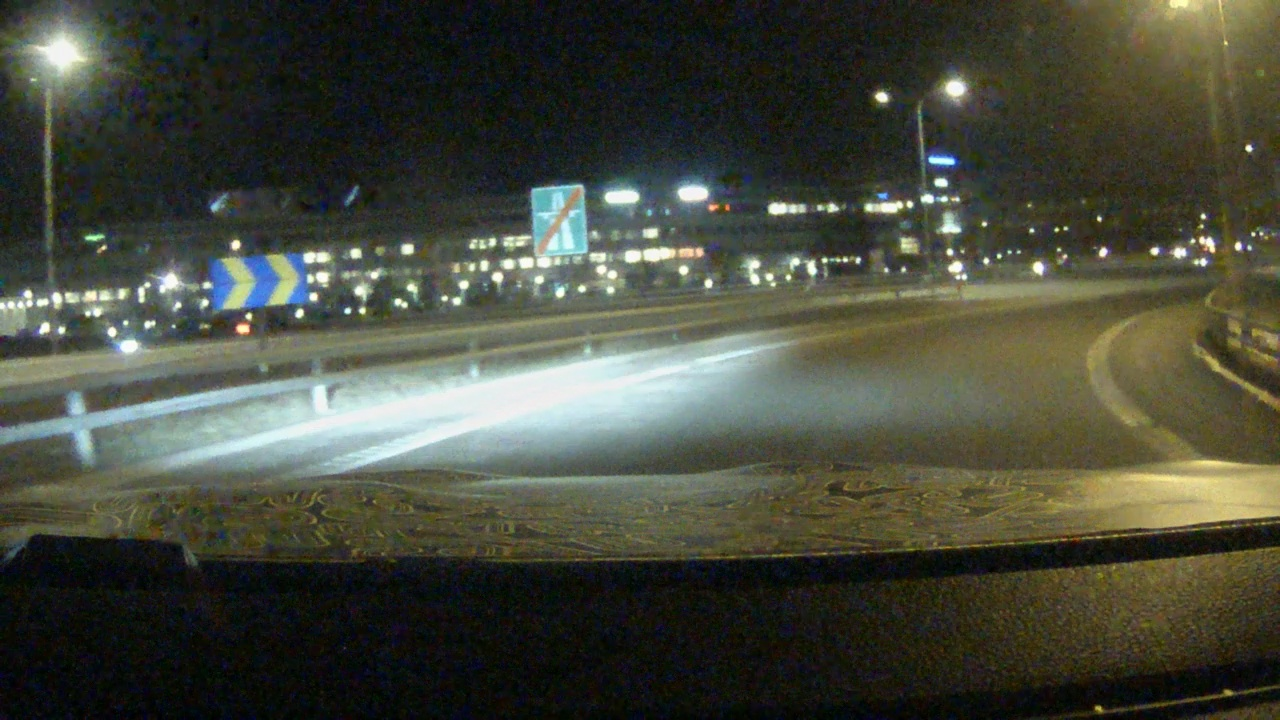Regular_End_Of_Motorway: (530, 184, 587, 259)
